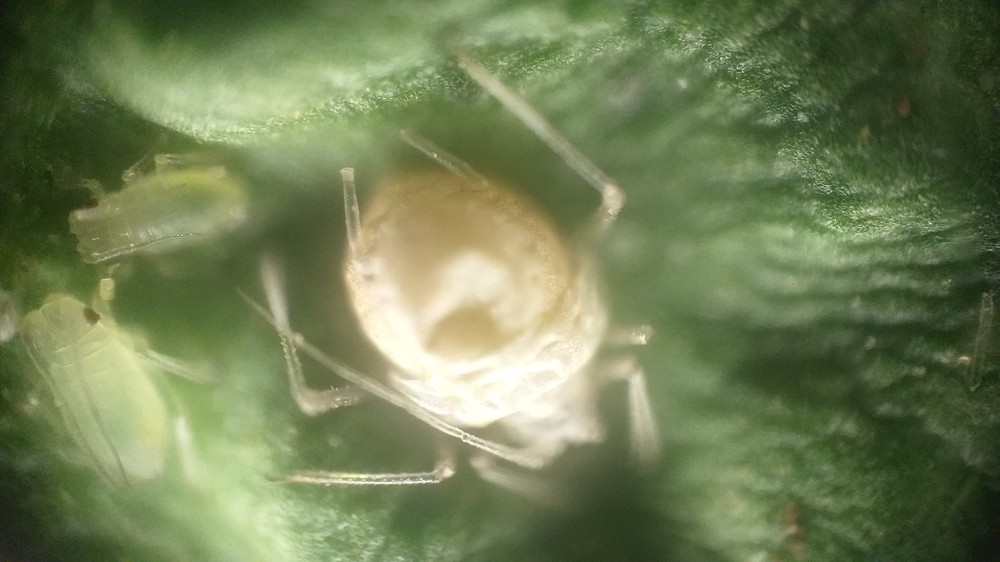Pulgon: (266, 78, 738, 525), (15, 287, 227, 503), (53, 141, 291, 286)
